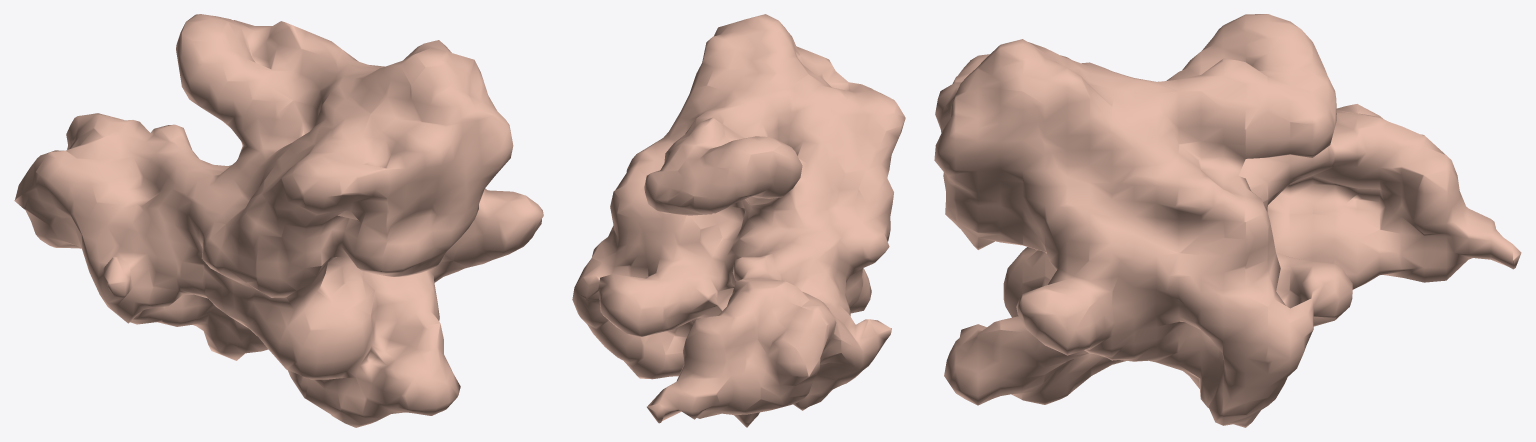
File: CoarseMS_2zjs_1_1.dae
3 renders of one model, left to right at view 1: azimuth 30°, elevation 25°; view 2: azimuth 150°, elevation 25°; view 3: azimuth 270°, elevation 25°, orthographic. The views are drawn at different scales.
Visible parts, largest first — view 1: CoarseMS_2zjs_aligned; view 2: CoarseMS_2zjs_aligned; view 3: CoarseMS_2zjs_aligned.
Part boxes in pixels (bbox=[...]): CoarseMS_2zjs_aligned: bbox=[14, 14, 543, 427]; CoarseMS_2zjs_aligned: bbox=[572, 14, 905, 427]; CoarseMS_2zjs_aligned: bbox=[934, 14, 1521, 427].
Bounding box in the file's own units: 60.13 × 58.18 × 78.98.
